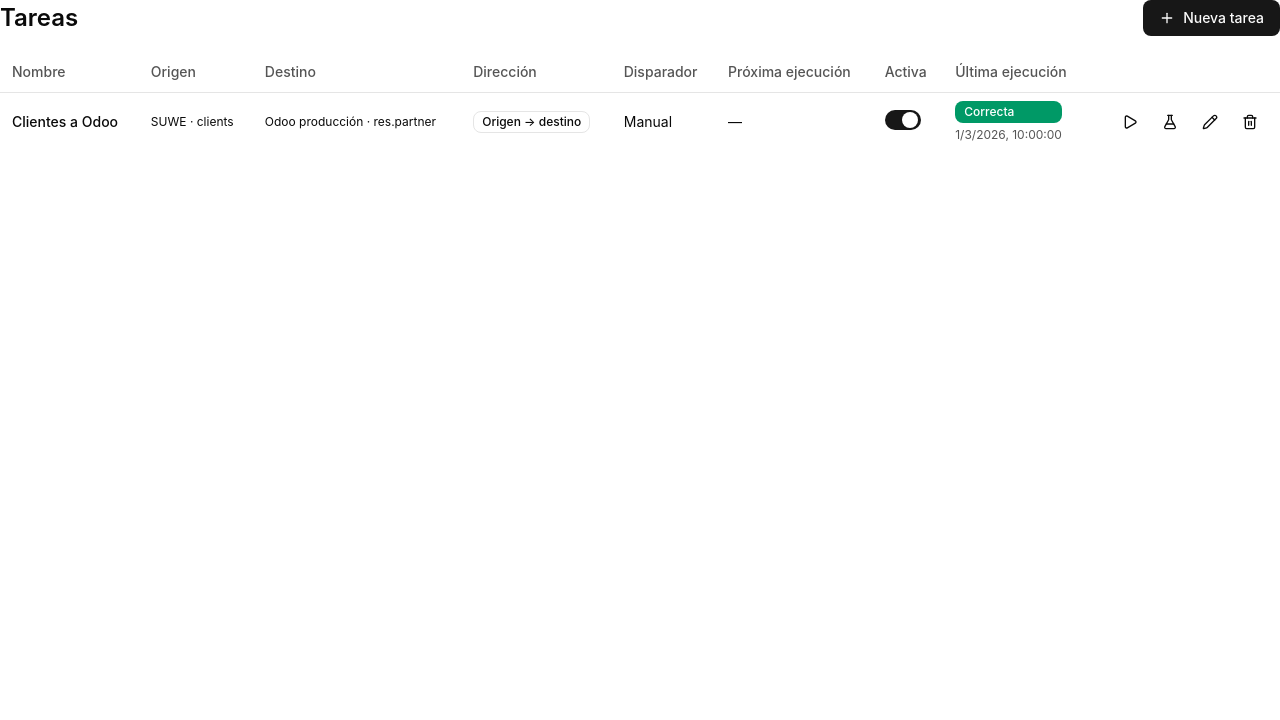
JobsPage › explains that the job is already running
Click the button named "Ejecutar Clientes a Odoo ahora" at (1130, 122), box x1=1112 y1=104 x2=1148 y2=140
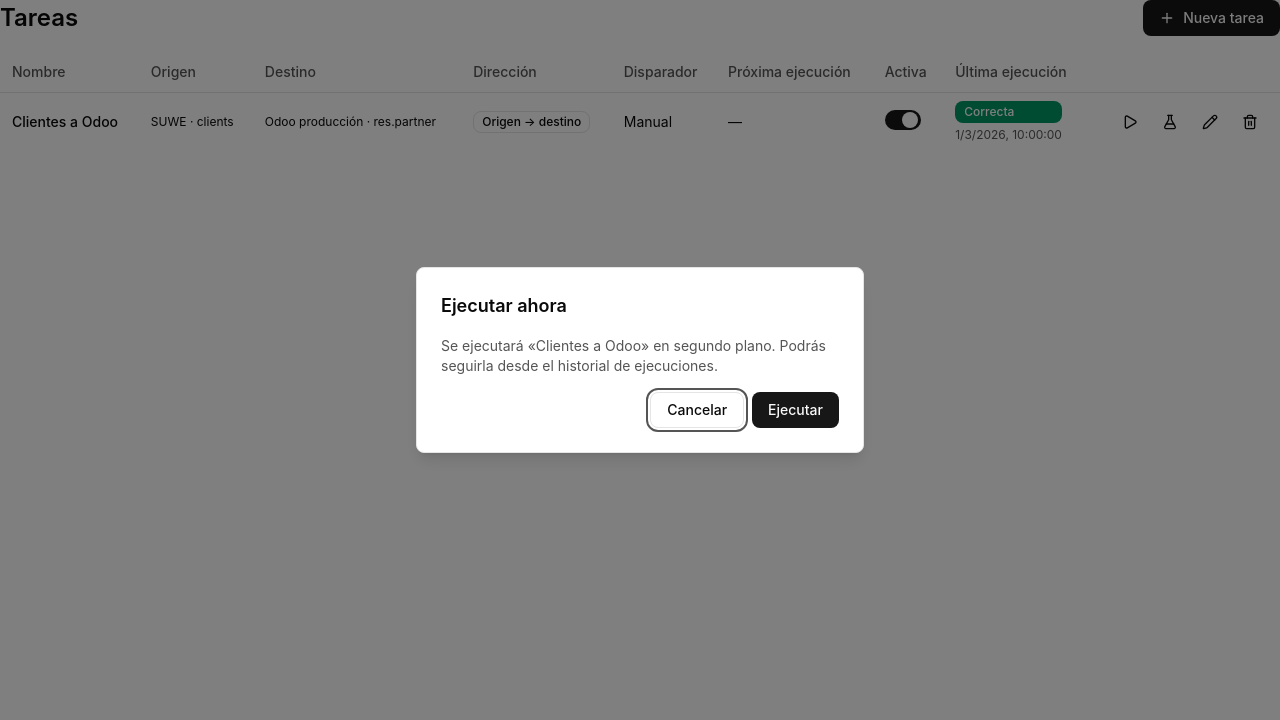
Click the button "Ejecutar" at (796, 410), box x1=752 y1=392 x2=839 y2=428
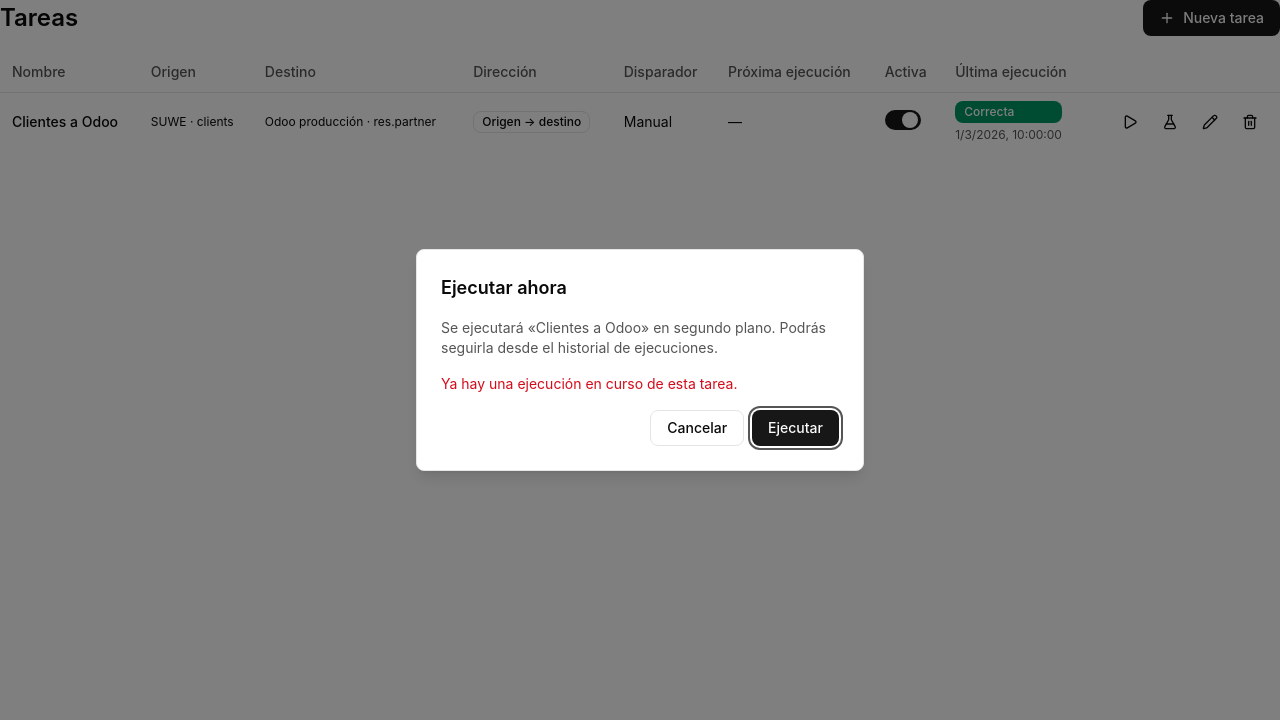
Check: the message reads "Ya hay una ejecución en curso de esta tarea.", box x1=441 y1=375 x2=737 y2=392
